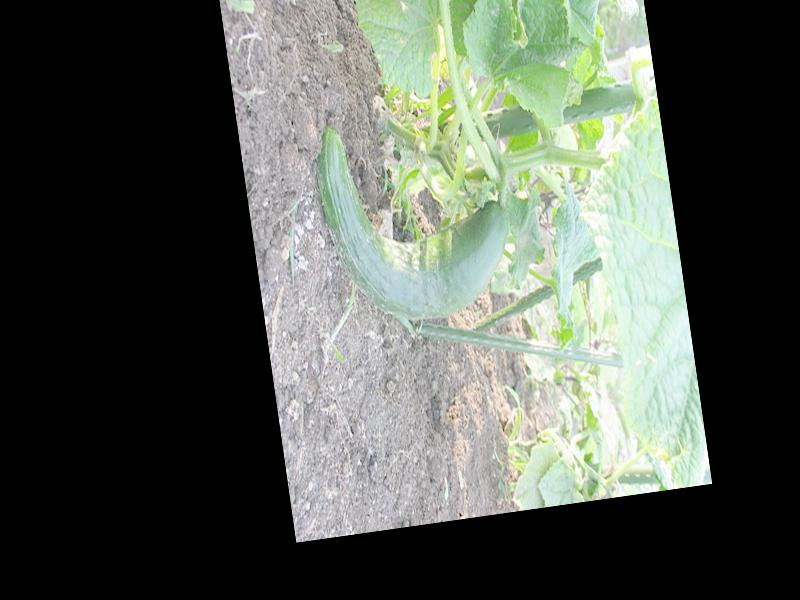Cucumber: (310, 102, 521, 333)
